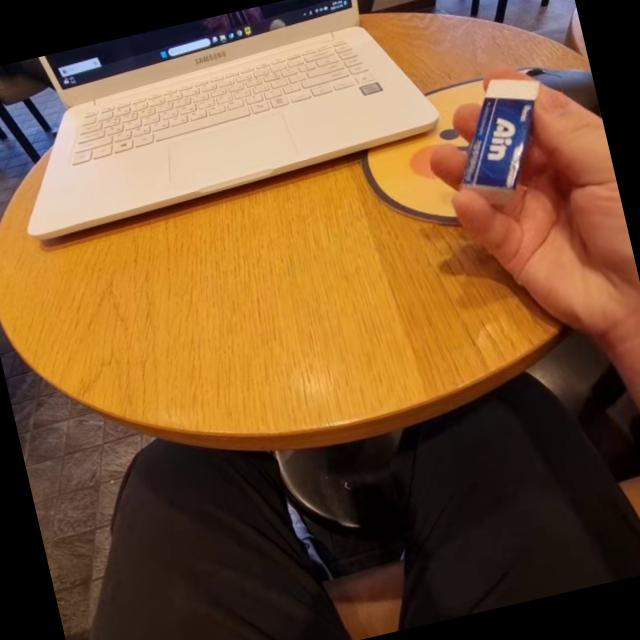eraser: (455, 74, 540, 200)
grab_eraser: (420, 43, 640, 359)
